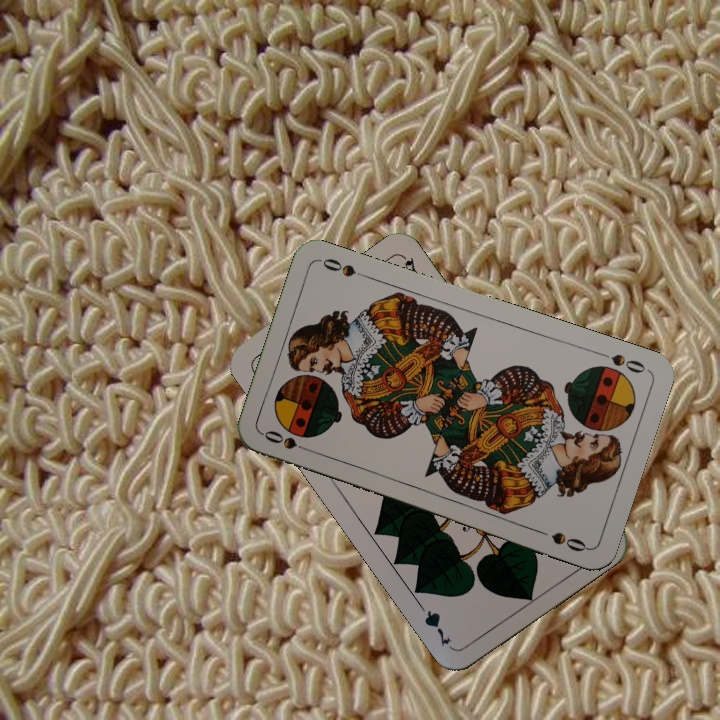SO: (260, 426, 317, 456), (593, 347, 648, 376)
